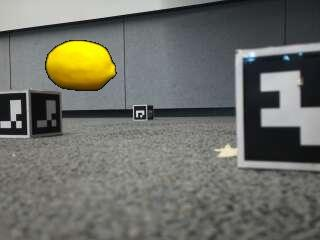lemon: (46, 40, 116, 91)
